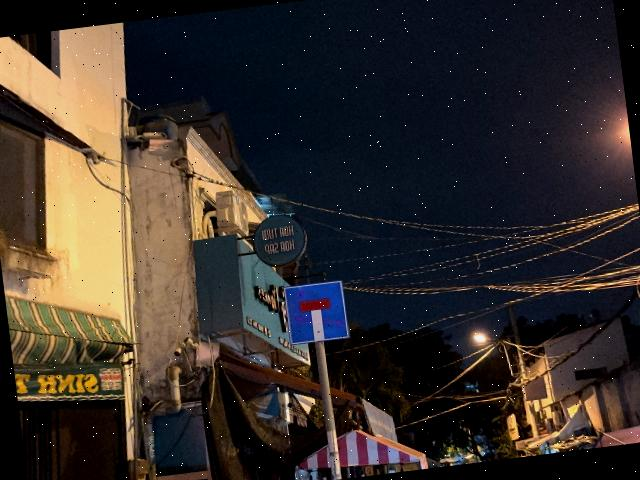duong-cut: (283, 280, 349, 346)
